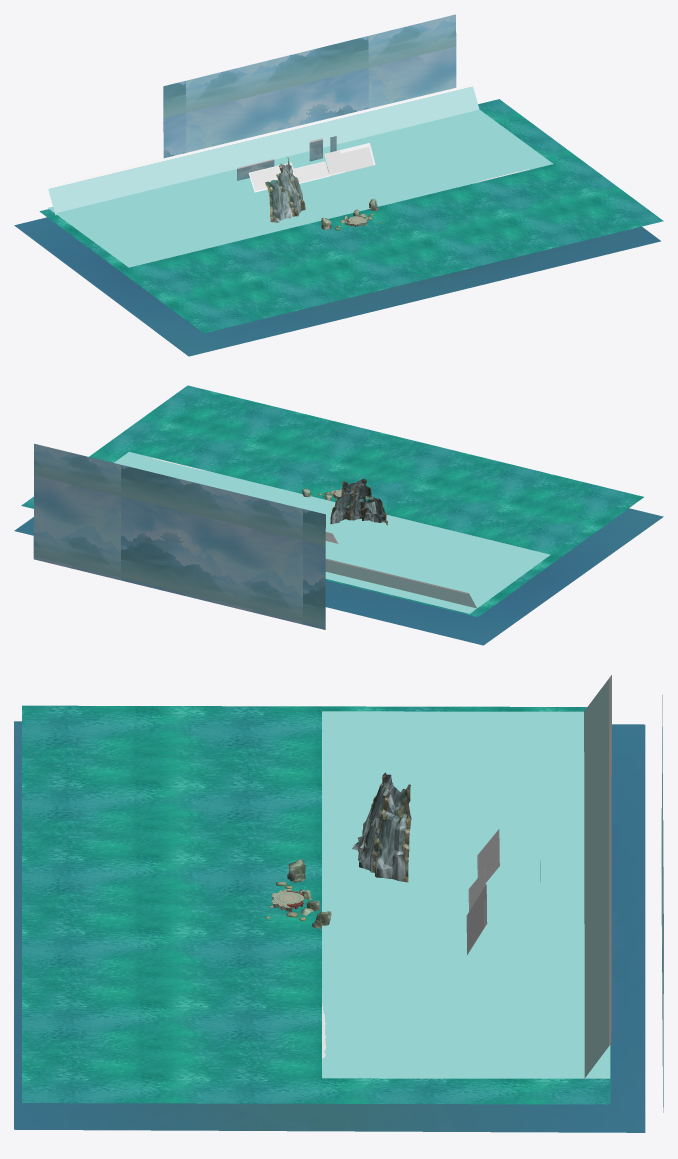
3 views of the same model, one above another, from view 1: azimuth 30°, elevation 25°; view 2: azimuth 150°, elevation 25°; view 3: azimuth 270°, elevation 25° (orthographic). The views are drawn at different scales.
Parts seen in each view (by area): view 1: shui, wu1, sky, shuidi, wu, yun, pubu; view 2: shui, sky, wu1, shuidi, wu, pubu; view 3: shui, wu1, shuidi, wu, pubu, yun, shanshi, sky.
Part boxes in pixels (x1,y1,x2,y2): shui: (39, 99, 663, 333); wu1: (48, 109, 552, 267); sky: (163, 14, 456, 158); shuidi: (14, 217, 660, 356); wu: (47, 84, 479, 215); yun: (248, 143, 375, 192); pubu: (265, 157, 305, 222); shui: (21, 385, 643, 617); sky: (33, 443, 325, 629); wu1: (114, 452, 550, 613); shuidi: (14, 508, 663, 645); wu: (325, 558, 477, 609); pubu: (330, 478, 387, 525); shui: (22, 705, 610, 1104); wu1: (322, 711, 610, 1078); shuidi: (14, 721, 645, 1132); wu: (583, 675, 611, 1080); pubu: (352, 772, 411, 882); yun: (466, 829, 499, 955); shanshi: (265, 859, 331, 928); sky: (661, 695, 663, 1112).
Bounding box in the file's own units: 5740 × 1337 × 3809.
